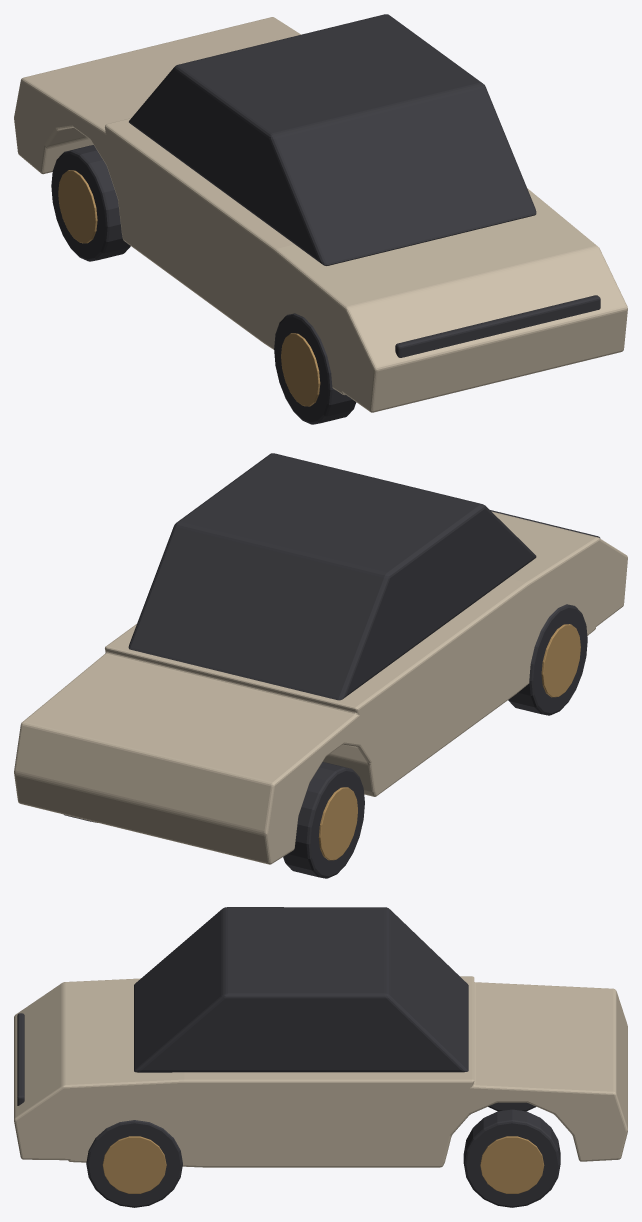
The model's file is car-suv.glb.
The picture shows the model from 3 angles, top to bottom: view 1: azimuth 30°, elevation 25°; view 2: azimuth 150°, elevation 25°; view 3: azimuth 270°, elevation 25°; orthographic projection. The views are drawn at different scales.
Visible parts, largest first — view 1: suv_body, suv_glass, suv_wheel_f_-1, suv_wheel_r_-1, suv_tail, suv_wheel_r_-1_rim_-1, suv_wheel_f_-1_rim_-1; view 2: suv_body, suv_glass, suv_wheel_f_-1, suv_wheel_r_-1, suv_wheel_r_-1_rim_-1, suv_wheel_f_-1_rim_-1; view 3: suv_body, suv_glass, suv_wheel_f_1, suv_wheel_r_1, suv_wheel_r_1_rim_1, suv_wheel_f_1_rim_1, suv_tail.
Boxes of the visible parts, <box> form: suv_body: <box>14,17,627,412</box>; suv_glass: <box>129,14,536,265</box>; suv_wheel_f_-1: <box>51,145,130,261</box>; suv_wheel_r_-1: <box>274,313,356,424</box>; suv_tail: <box>395,295,600,357</box>; suv_wheel_r_-1_rim_-1: <box>281,333,320,406</box>; suv_wheel_f_-1_rim_-1: <box>58,170,97,243</box>; suv_body: <box>14,511,627,864</box>; suv_glass: <box>128,453,536,700</box>; suv_wheel_f_-1: <box>283,762,364,878</box>; suv_wheel_r_-1: <box>508,604,587,715</box>; suv_wheel_r_-1_rim_-1: <box>541,624,580,697</box>; suv_wheel_f_-1_rim_-1: <box>318,787,357,860</box>; suv_body: <box>14,976,627,1167</box>; suv_glass: <box>134,907,468,1072</box>; suv_wheel_f_1: <box>463,1109,560,1207</box>; suv_wheel_r_1: <box>86,1120,182,1207</box>; suv_wheel_r_1_rim_1: <box>102,1136,166,1193</box>; suv_wheel_f_1_rim_1: <box>480,1136,544,1193</box>; suv_tail: <box>17,1013,24,1105</box>.
Bounding box in the file's own units: 2.07 × 1.82 × 4.94.
